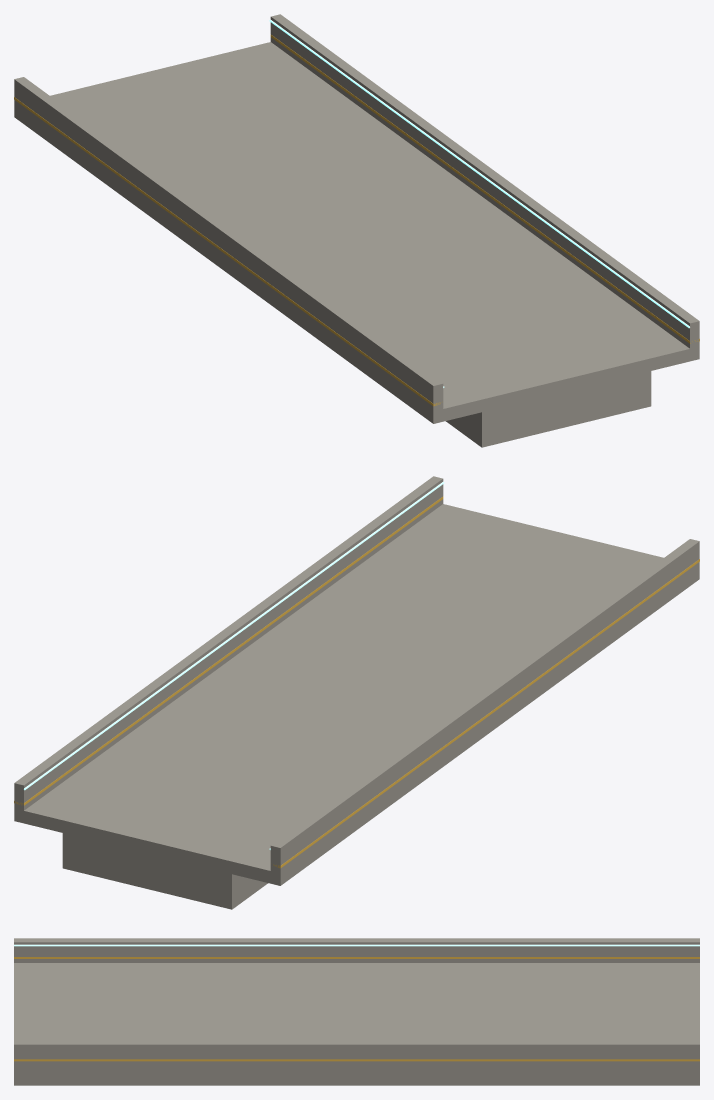
Rendered from ramp_span.glb.
3 views of the same model, one above another, from view 1: azimuth 30°, elevation 25°; view 2: azimuth 150°, elevation 25°; view 3: azimuth 270°, elevation 25° (orthographic). The views are drawn at different scales.
Visible parts, largest first — view 1: ramp; view 2: ramp; view 3: ramp.
Boxes of the visible parts, <box> form: ramp: <box>14,14,699,447</box>; ramp: <box>14,476,699,909</box>; ramp: <box>14,938,699,1085</box>.
Bounding box in the file's own units: 11.02 × 2.9 × 30.
